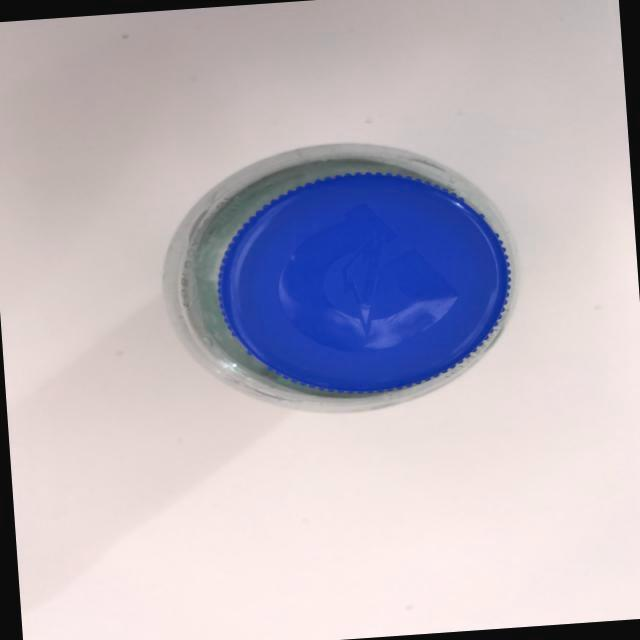plastic: (139, 95, 557, 442)
